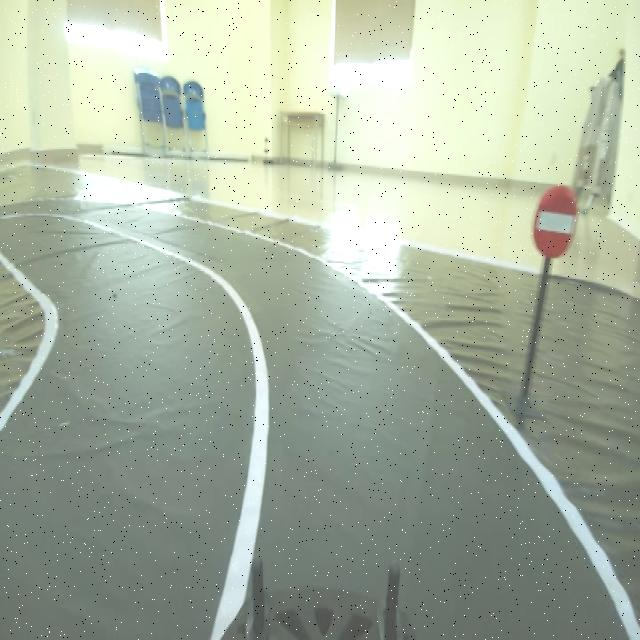no_entry: (531, 170, 581, 264)
